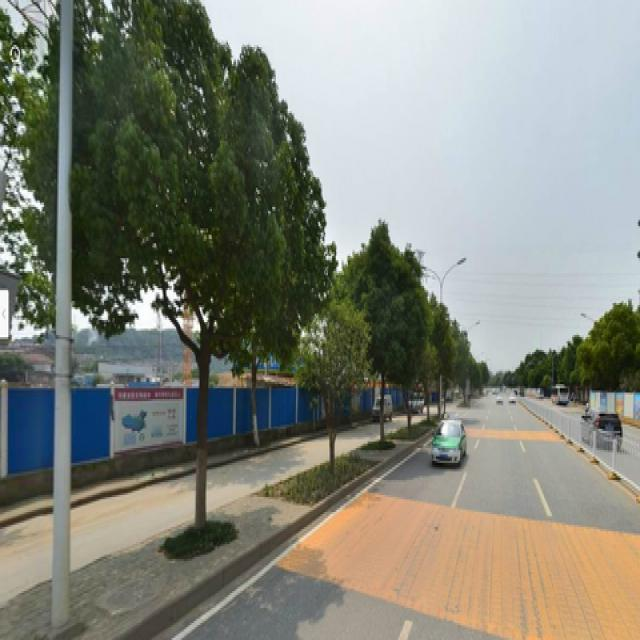cinn: (121, 9, 271, 508), (357, 252, 399, 454)
